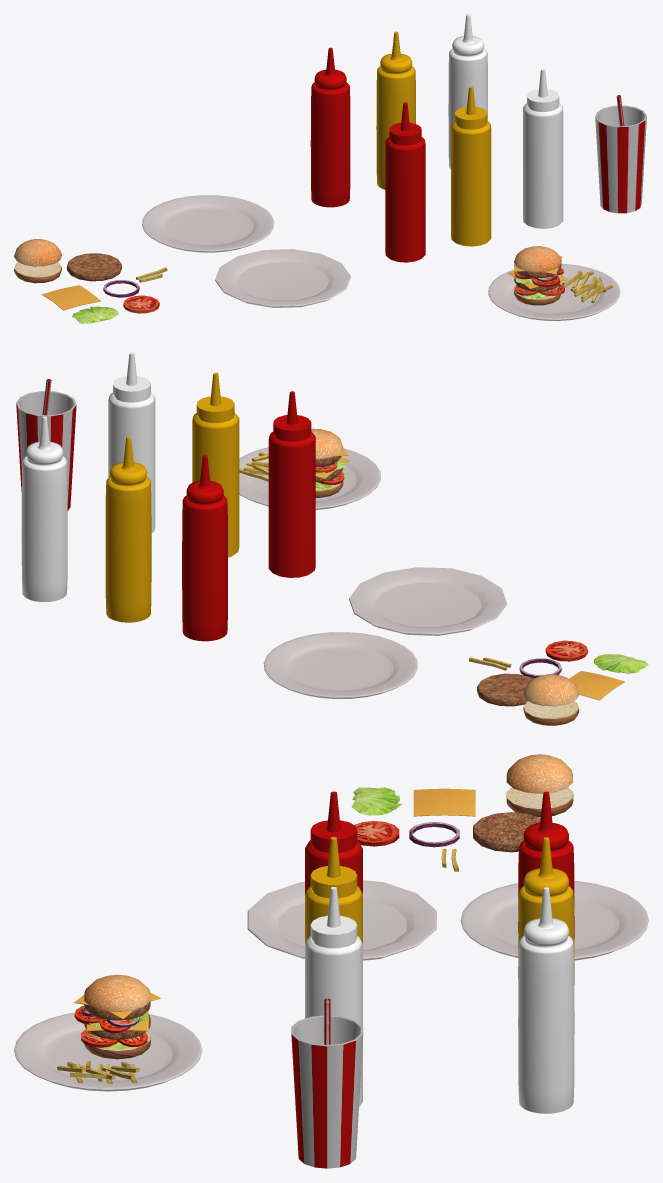
Rendered from Burger.fbx.
3 views of the same model, one above another, from view 1: azimuth 30°, elevation 25°; view 2: azimuth 150°, elevation 25°; view 3: azimuth 270°, elevation 25° (orthographic). The views are drawn at different scales.
Visible parts, largest first — view 1: High_Poly_Plate_01 (×2), Low_Poly_Plate_01, Style_01_Ketchup_Bottle_01, Style_01_Mutard_Bottle_01, Style_01_Mayonnaise_Bottle_01, Style_02_Ketchup_Bottle_01, Base_Drink_01, Style_02_Mutard_Bottle_01, Style_02_Mayonnaise_Bottle_01, Top_Burger_Bread (×2), Meat_01, Cheese_01 (+3 smaller); view 2: High_Poly_Plate_01 (×2), Low_Poly_Plate_01, Style_01_Ketchup_Bottle_01, Style_02_Mutard_Bottle_01, Style_02_Mayonnaise_Bottle_01, Style_02_Ketchup_Bottle_01, Style_01_Mutard_Bottle_01, Style_01_Mayonnaise_Bottle_01, Base_Drink_01, Top_Burger_Bread (×2), Meat_01, Bot_Burger_Bread (+3 smaller); view 3: High_Poly_Plate_01 (×2), Style_02_Mayonnaise_Bottle_01, Base_Drink_01, Low_Poly_Plate_01, Style_01_Mayonnaise_Bottle_01, Top_Burger_Bread (×2), Style_01_Mutard_Bottle_01, Style_02_Mutard_Bottle_01, Style_01_Ketchup_Bottle_01, Style_02_Ketchup_Bottle_01, Bot_Burger_Bread (×2), Meat_01 (+4 smaller).
Part boxes in pixels (x1=…): High_Poly_Plate_01 (×2): x1=142, y1=195, x2=620, y2=320; Low_Poly_Plate_01: x1=215, y1=249, x2=350, y2=307; Style_01_Ketchup_Bottle_01: x1=385, y1=102, x2=425, y2=262; Style_01_Mutard_Bottle_01: x1=451, y1=86, x2=491, y2=246; Style_01_Mayonnaise_Bottle_01: x1=523, y1=68, x2=563, y2=228; Style_02_Ketchup_Bottle_01: x1=310, y1=47, x2=350, y2=207; Base_Drink_01: x1=595, y1=105, x2=646, y2=213; Style_02_Mutard_Bottle_01: x1=376, y1=31, x2=415, y2=189; Style_02_Mayonnaise_Bottle_01: x1=448, y1=14, x2=487, y2=168; Top_Burger_Bread (×2): x1=14, y1=239, x2=561, y2=272; Meat_01: x1=67, y1=253, x2=121, y2=281; Cheese_01: x1=42, y1=285, x2=101, y2=310; High_Poly_Plate_01 (×2): x1=239, y1=447, x2=417, y2=698; Low_Poly_Plate_01: x1=349, y1=567, x2=507, y2=635; Style_01_Ketchup_Bottle_01: x1=268, y1=391, x2=315, y2=577; Style_02_Mutard_Bottle_01: x1=105, y1=436, x2=151, y2=622; Style_02_Mayonnaise_Bottle_01: x1=21, y1=416, x2=67, y2=601; Style_02_Ketchup_Bottle_01: x1=182, y1=455, x2=227, y2=641; Style_01_Mutard_Bottle_01: x1=192, y1=372, x2=239, y2=557; Style_01_Mayonnaise_Bottle_01: x1=108, y1=352, x2=155, y2=532; Base_Drink_01: x1=16, y1=391, x2=76, y2=510; Top_Burger_Bread (×2): x1=311, y1=428, x2=579, y2=706; Meat_01: x1=477, y1=673, x2=532, y2=706; Bot_Burger_Bread: x1=523, y1=701, x2=579, y2=725; High_Poly_Plate_01 (×2): x1=14, y1=880, x2=648, y2=1091; Style_02_Mayonnaise_Bottle_01: x1=518, y1=887, x2=574, y2=1113; Base_Drink_01: x1=291, y1=1015, x2=363, y2=1168; Low_Poly_Plate_01: x1=247, y1=880, x2=436, y2=960; Style_01_Mayonnaise_Bottle_01: x1=305, y1=887, x2=362, y2=1107; Top_Burger_Bread (×2): x1=84, y1=754, x2=572, y2=1011; Style_01_Mutard_Bottle_01: x1=305, y1=837, x2=362, y2=943; Style_02_Mutard_Bottle_01: x1=518, y1=837, x2=574, y2=984; Style_01_Ketchup_Bottle_01: x1=305, y1=791, x2=362, y2=893; Style_02_Ketchup_Bottle_01: x1=518, y1=791, x2=574, y2=938; Bot_Burger_Bread (×2): x1=84, y1=787, x2=573, y2=1059; Meat_01: x1=473, y1=812, x2=540, y2=852.
Bounding box in the file's own units: 25.69 × 6.77 × 17.98.
1 material, 1 textured.
